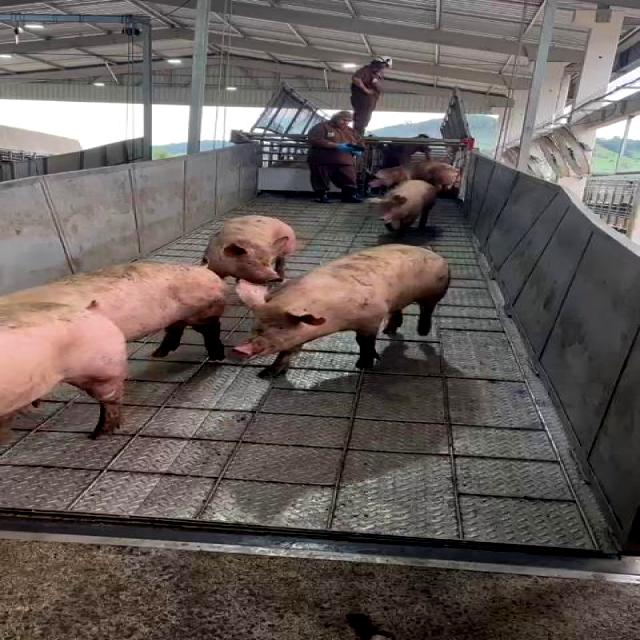pig: (0, 262, 227, 439), (236, 244, 451, 377), (0, 261, 227, 359), (0, 302, 126, 442), (202, 215, 298, 284), (371, 180, 438, 234)
